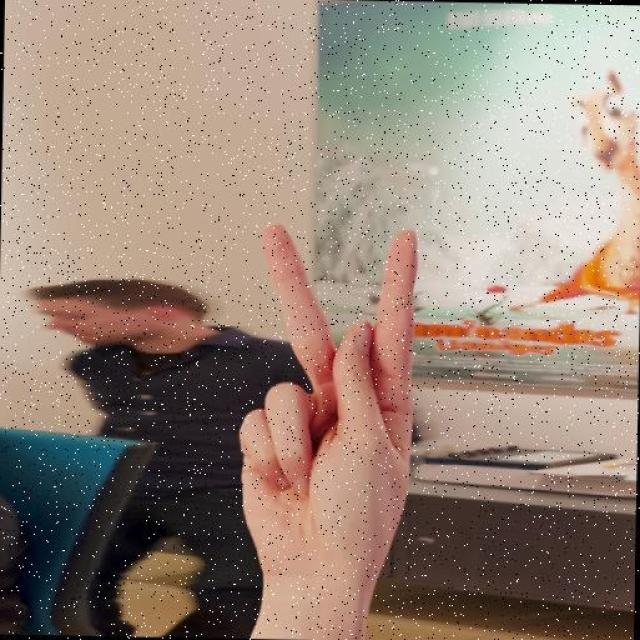K: (235, 220, 421, 555)
